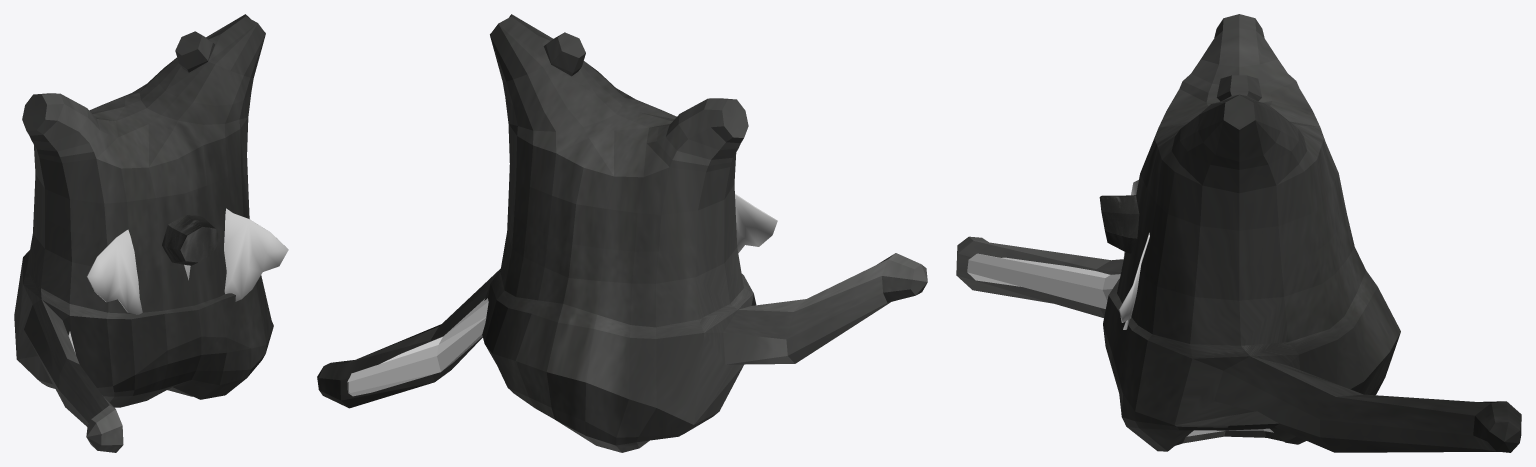
The model's file is frame_0062.obj.
The picture shows the model from 3 angles, left to right: view 1: azimuth 30°, elevation 25°; view 2: azimuth 150°, elevation 25°; view 3: azimuth 270°, elevation 25°; orthographic projection. The views are drawn at different scales.
Parts seen in each view (by area): view 1: korok, leaf, nose; view 2: korok, leaf; view 3: korok, nose, leaf.
Part boxes in pixels (left/top/right/bottom): korok: left=14, top=14, right=273, bottom=452; leaf: left=87, top=208, right=288, bottom=314; nose: left=162, top=214, right=219, bottom=265; korok: left=317, top=14, right=927, bottom=452; leaf: left=735, top=194, right=777, bottom=252; korok: left=956, top=14, right=1521, bottom=452; nose: left=1099, top=195, right=1139, bottom=253; leaf: left=1119, top=180, right=1149, bottom=329.
Bounding box in the file's own units: 1.78 × 1.72 × 2.22.
